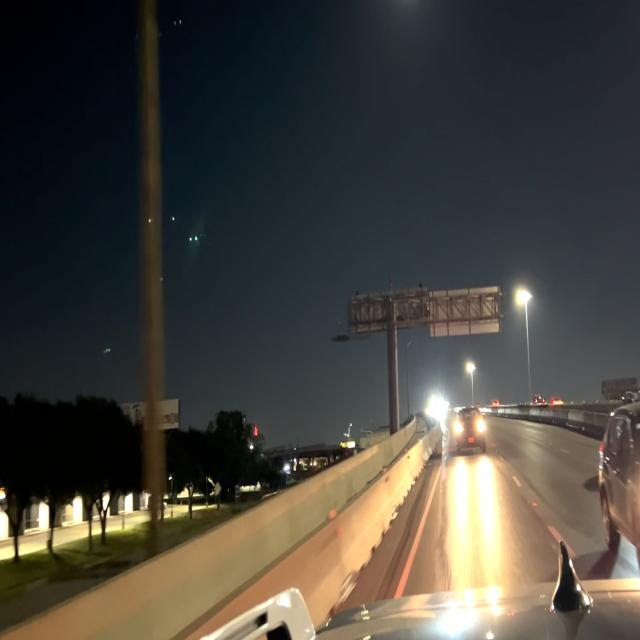back-of-sign: (426, 283, 504, 341)
